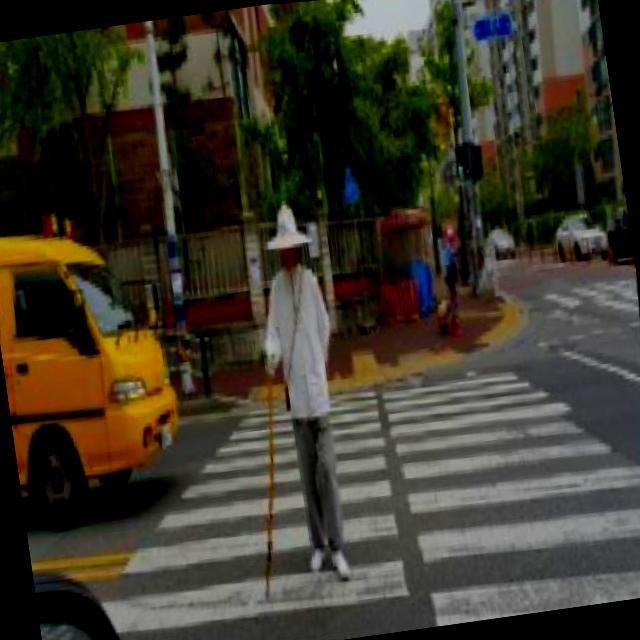Person: (210, 192, 371, 604)
